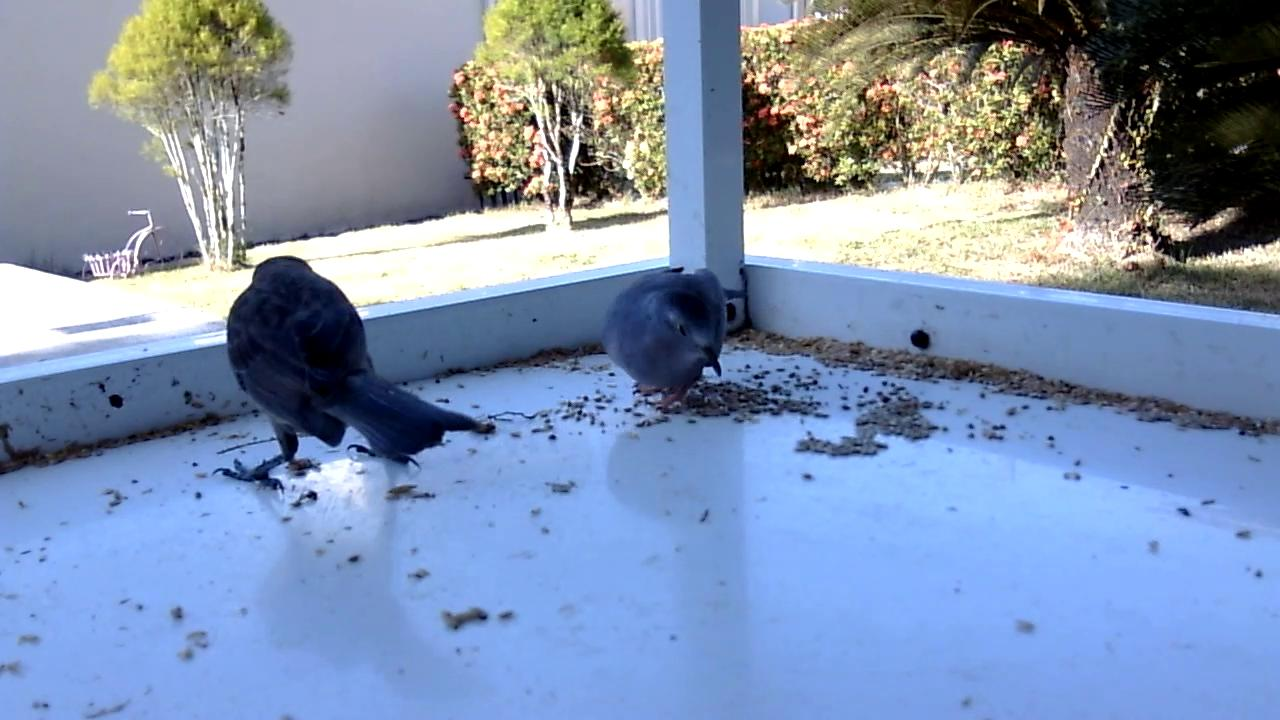chupim: (210, 255, 484, 499)
rolinha: (599, 265, 753, 416)
